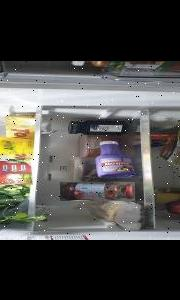Mantequilla: (0, 157, 34, 183)
Manzana: (163, 199, 180, 215)
Mermelada: (60, 181, 135, 200), (67, 119, 128, 134)
